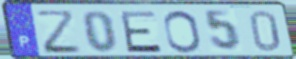0: (81, 9, 120, 55), (247, 9, 283, 54)
5: (201, 8, 244, 54)
E: (118, 10, 164, 54)
O: (161, 9, 204, 54)
Z: (33, 9, 84, 56)
